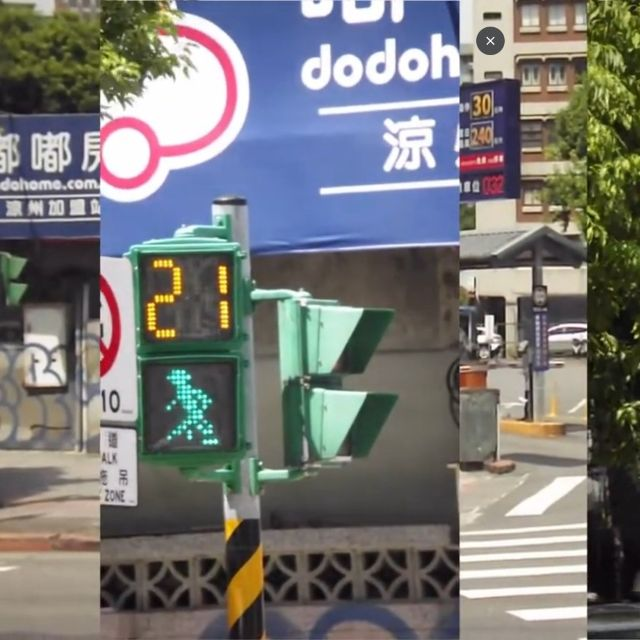green_light: (132, 247, 246, 461)
